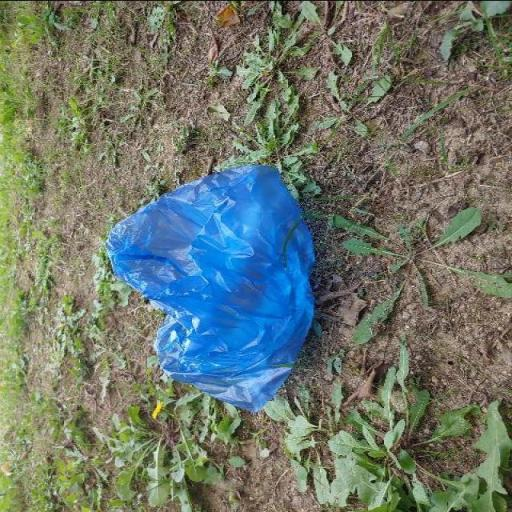plastic-bag: (101, 164, 317, 413)
